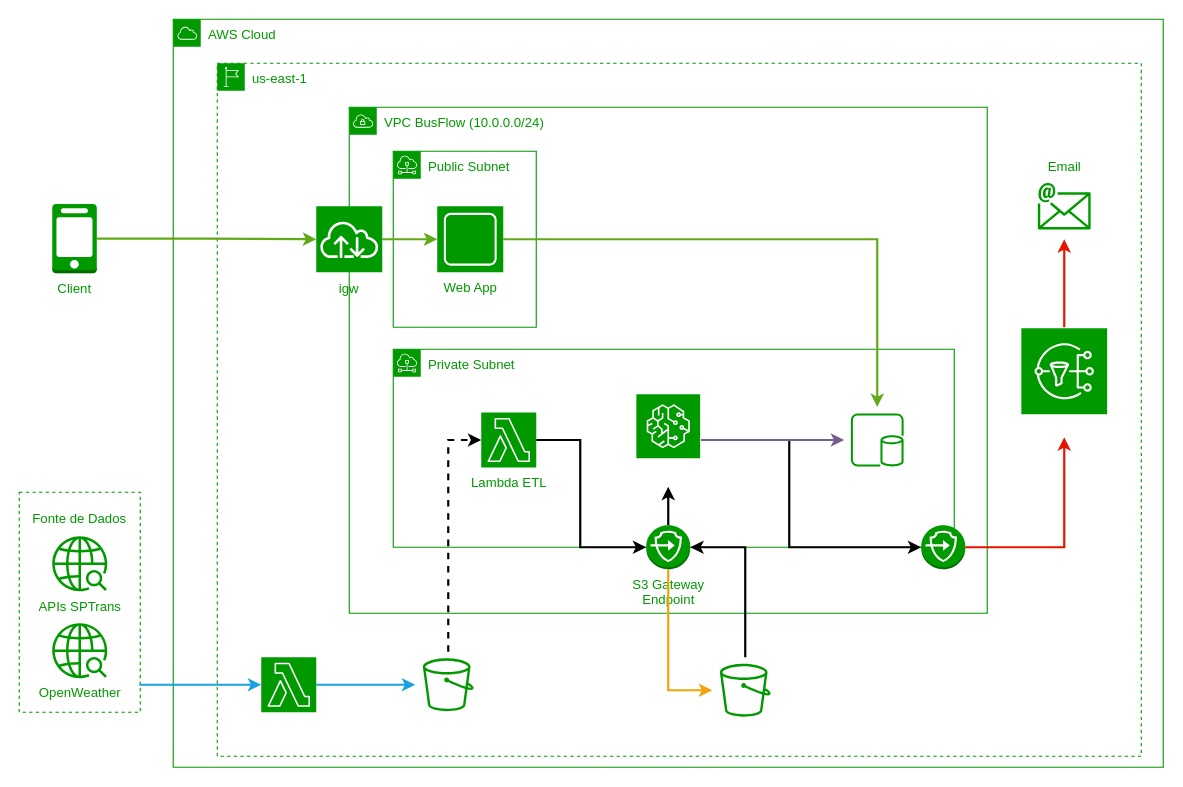
This 1183x787 diagram has some shape labels left out. The centre of each missing label's shape, as x and y in pixels:
Amazon SNS: (x=1063, y=381)
DB Instance (PostgreSQL): (x=876, y=439)
Lambda Ingestion: (x=288, y=684)
raw: (x=447, y=684)
SageMaker: (x=667, y=439)
trusted: (x=744, y=689)
VPC Endpoint SNS: (x=942, y=546)
